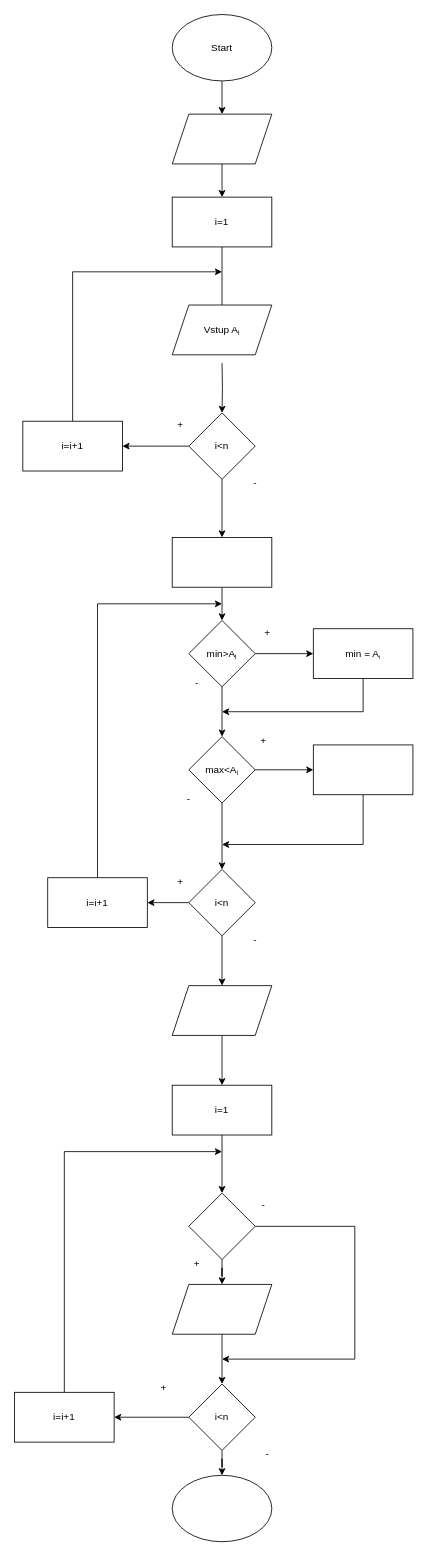
The diagram is 427 pixels wide and 1556 high, and some of its shapes have lost their labels. Here are the shapes that lost their labels. From the top down, the centre of each, then its label:
the point at 221,138: Vstup n
the point at 221,562: I=1 min=A 1 max=A 1
the point at 362,769: max = A i
the point at 221,1010: Vystup: min, max
the point at 221,1226: A i %2==0
the point at 221,1309: Vystup A i
the point at 221,1508: Koniec
